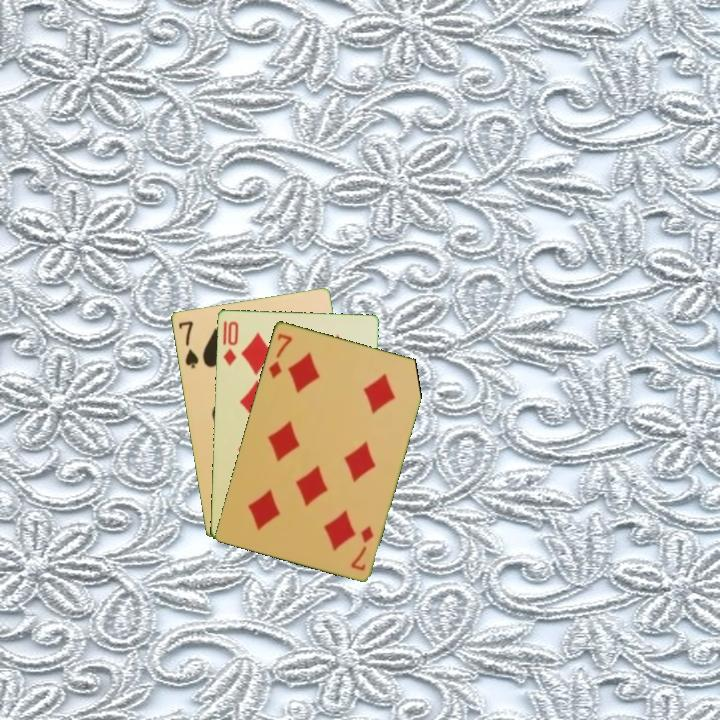10d: (219, 317, 241, 368)
7d: (265, 330, 295, 380), (347, 522, 376, 573)
7s: (174, 317, 201, 371)
